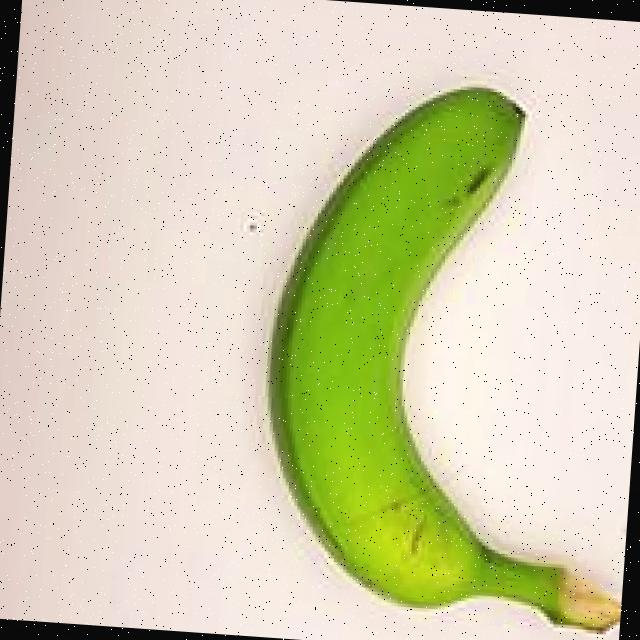Unripe: (218, 41, 640, 640)
